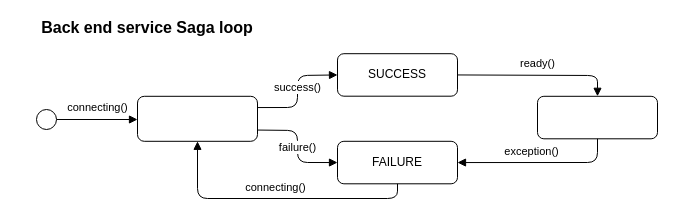
This 675x224 diagram has some shape labels left out. The centre of each missing label's shape, as x and y in pixels:
CONNECTING: (x=197, y=118)
READY: (x=597, y=117)
